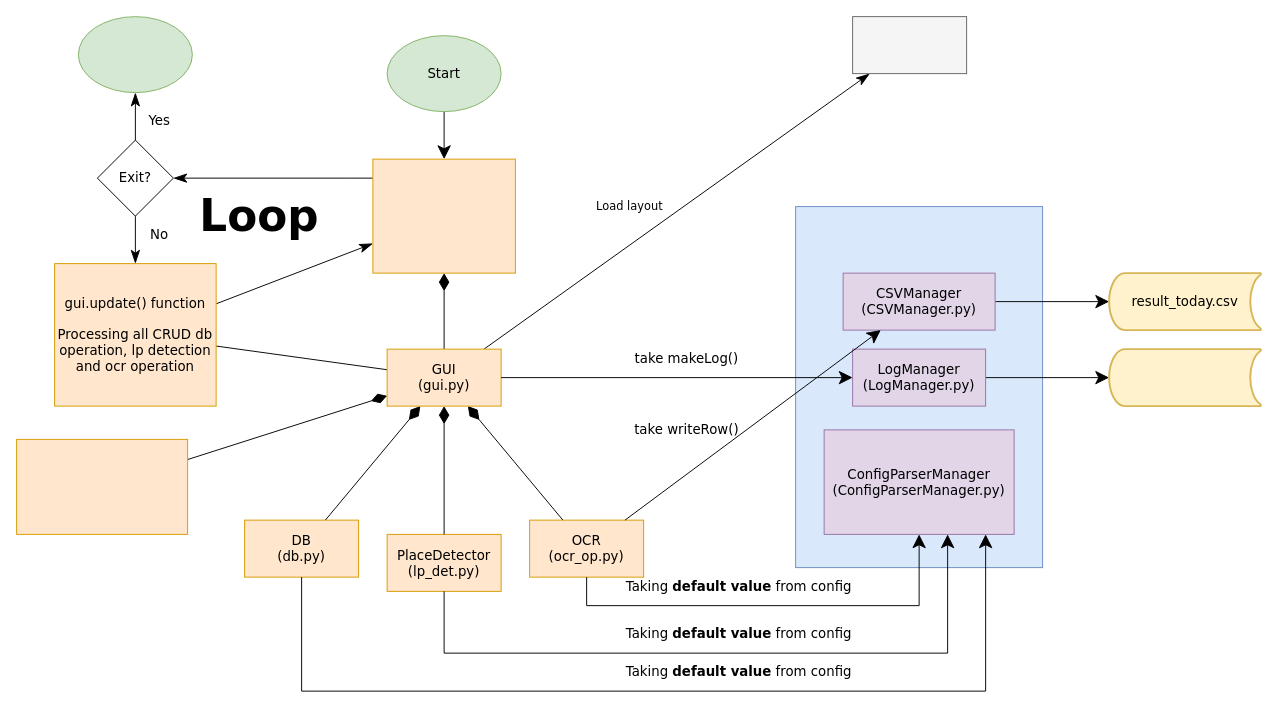
Some shapes in this 1279 by 721 pixel diagram are drawn without their labels. Here are the shapes that lost their labels. From the top down, the box of each, then its label:
(77, 16, 192, 93): End
(852, 16, 967, 74): layout.kv
(372, 158, 515, 273): <<main.py>> ALPR (Kivy.App) Clock.schedule (gui.update, 1/60)
(795, 206, 1043, 568): Helper Classes (contains static method)
(1108, 348, 1262, 407): Log.today.log
(16, 438, 188, 534): VideoCaptureAsync (videocaptureasync.py)
